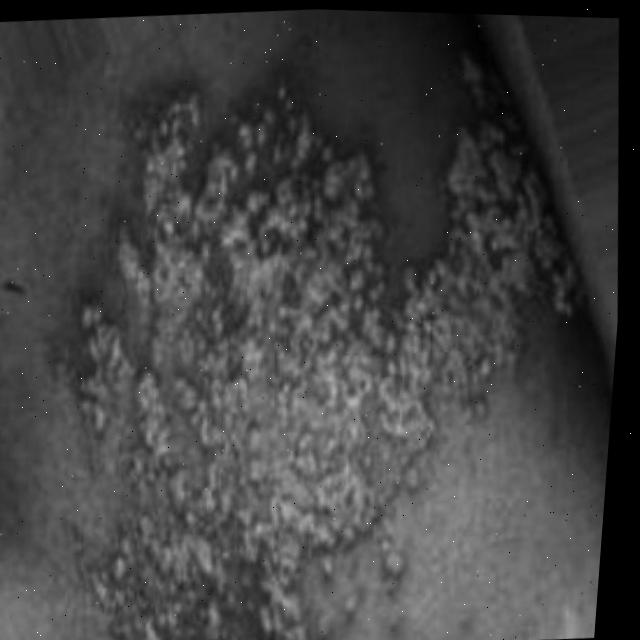Shingles: (33, 58, 618, 640)
